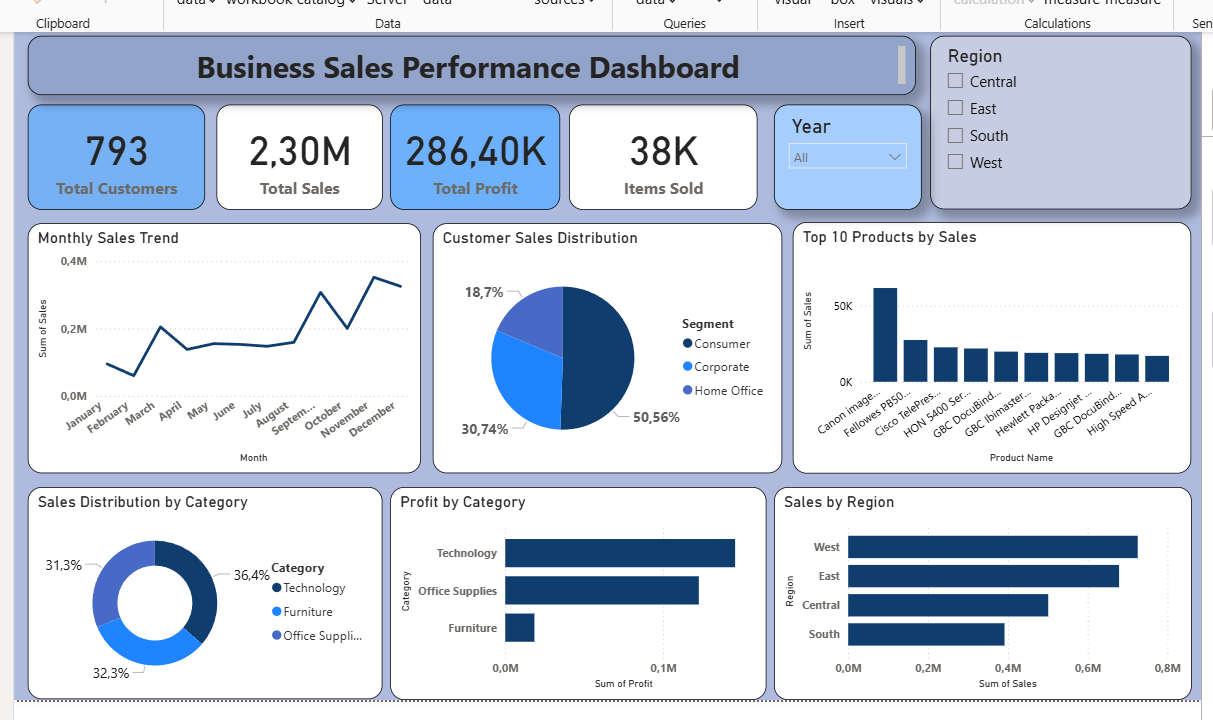

The page's visual inventory and layout, read from the dashboard file:
{"tool":"powerbi","page":{"name":"Page 1","canvas":[1280,720],"ordinal":0},"visuals":[{"type":"card","fields":{"Values":["Sum(SalesData.Sales)"]},"box":[218.3,78.2,179.2,113.2],"z":0},{"type":"card","fields":{"Values":["Sum(SalesData.Profit)"]},"box":[405.6,78.2,183.3,113.2],"z":1000},{"type":"card","fields":{"Values":["Sum(SalesData.Quantity)"]},"box":[598.4,78.2,203.5,113.2],"z":2000},{"type":"lineChart","title":"Monthly Sales Trend","fields":{"Y":["Sum(SalesData.Sales)"],"Category":["SalesData.Order Date.Variation.Date Hierarchy.Month"]},"box":[14.7,206.3,424.3,269.6],"z":3000},{"type":"donutChart","title":"Sales Distribution by Category","fields":{"Category":["SalesData.Category"],"Y":["Sum(SalesData.Sales)"]},"box":[14.8,490.5,390.8,229.1],"z":4000},{"type":"barChart","title":"Sales by Region","fields":{"Category":["SalesData.Region"],"Y":["Sum(SalesData.Sales)"]},"box":[819.2,491,450,229.2],"z":5000},{"type":"clusteredColumnChart","title":"Top 10 Products by Sales","fields":{"Category":["SalesData.Product Name"],"Y":["Sum(SalesData.Sales)"]},"box":[839.6,204.8,429.9,270.9],"z":6000},{"type":"barChart","title":"Profit by Category","fields":{"Category":["SalesData.Category"],"Y":["Sum(SalesData.Profit)"]},"box":[417.8,490.5,393.5,229.1],"z":7000},{"type":"slicer","fields":{"Values":["SalesData.Region"]},"box":[987.8,4,281.7,187.3],"z":8000},{"type":"card","fields":{"Values":["Count(SalesData.Customer Name)"]},"box":[14.8,78.2,191.4,113.2],"z":9000},{"type":"textbox","box":[14.5,3.6,957.9,63.9],"z":10000},{"type":"pieChart","title":"Customer Sales Distribution","fields":{"Category":["SalesData.Segment"],"Y":["Sum(SalesData.Sales)"]},"box":[450.8,206.3,377.2,269.6],"z":11000},{"type":"slicer","fields":{"Values":["SalesData.Order Date.Variation.Date Hierarchy.Year"]},"box":[819.4,78.2,159,113.2],"z":12000}]}

Visuals, with their boxes in screenshot pixels (x1, y1, x2, y2):
card - Sum(SalesData.Sales): (213, 98, 381, 204)
card - Sum(SalesData.Profit): (389, 98, 560, 204)
card - Sum(SalesData.Quantity): (569, 98, 759, 204)
"Monthly Sales Trend" lineChart: (23, 218, 420, 470)
"Sales Distribution by Category" donutChart: (23, 484, 389, 698)
"Sales by Region" barChart: (775, 484, 1196, 698)
"Top 10 Products by Sales" clusteredColumnChart: (794, 217, 1196, 470)
"Profit by Category" barChart: (400, 484, 768, 698)
slicer - SalesData.Region: (933, 29, 1196, 204)
card - Count(SalesData.Customer Name): (23, 98, 202, 204)
textbox: (23, 29, 918, 88)
"Customer Sales Distribution" pieChart: (431, 218, 783, 470)
slicer - SalesData.Order Date.Variation.Date Hierarchy.Year: (775, 98, 924, 204)
